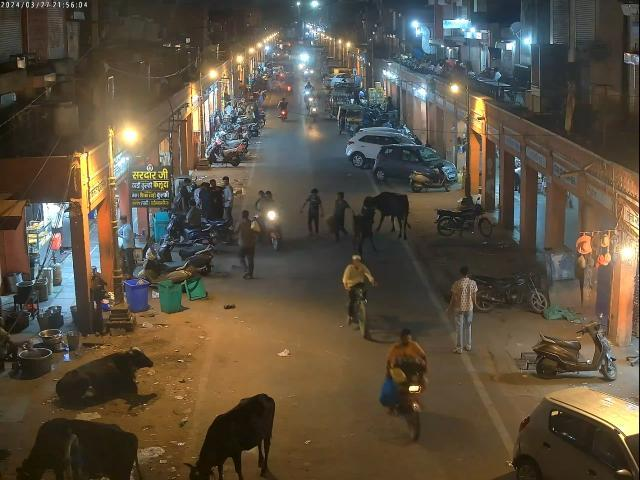bicycle-rider: (342, 255, 376, 338)
car: (508, 386, 640, 480), (374, 142, 456, 184)
cattle: (12, 416, 142, 480), (184, 393, 274, 480), (52, 346, 152, 405), (361, 191, 410, 240), (348, 207, 374, 254)
motorbike: (470, 265, 545, 312), (433, 199, 491, 238)
motorbike-rider: (381, 330, 428, 441)
no_helmet: (397, 330, 412, 346)
person: (449, 267, 475, 355), (231, 210, 256, 276), (328, 190, 349, 242), (302, 187, 324, 235), (117, 214, 134, 276), (220, 174, 233, 221)
scooty: (532, 316, 618, 380), (136, 247, 192, 288), (157, 237, 215, 275), (409, 160, 451, 193), (204, 139, 243, 166)
scooty-rider: (163, 201, 218, 249), (253, 188, 284, 250)
